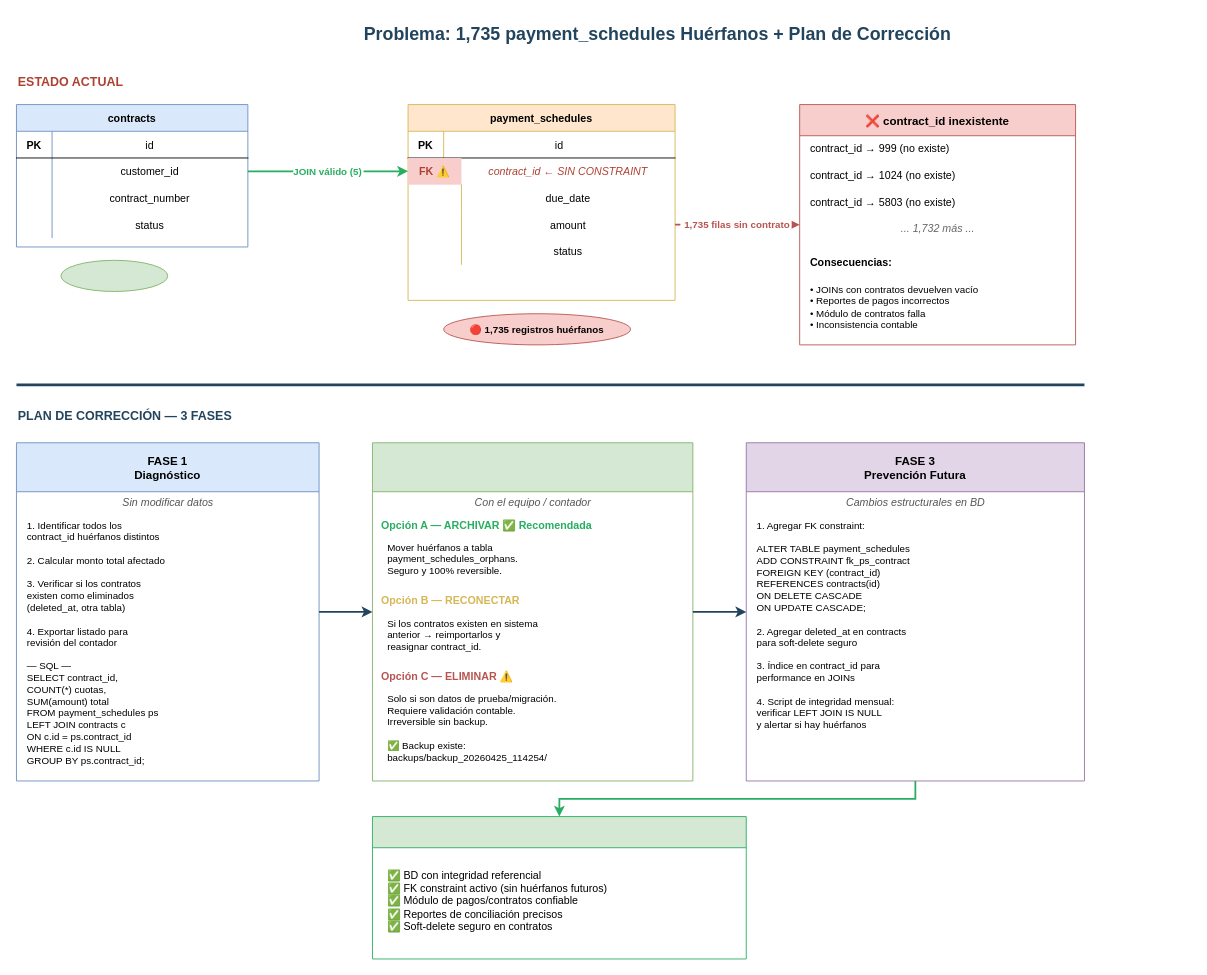
This 1207x975 diagram has some shape labels left out. Each missing label, with the box of its shape:
FASE 2 Decisión + Acción: (372, 442, 693, 781)
RESULTADO ESPERADO: (372, 816, 746, 959)
✅ 5 registros: (60, 259, 168, 291)
